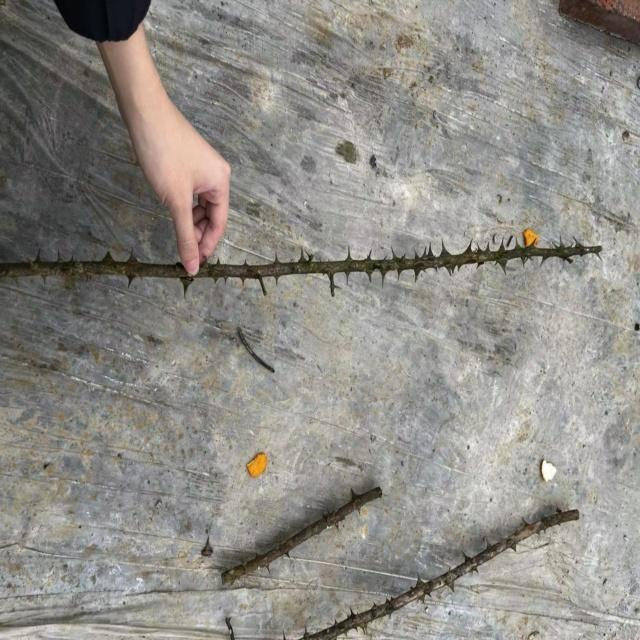branch: (303, 513, 579, 640), (203, 245, 602, 282), (0, 259, 202, 285)
